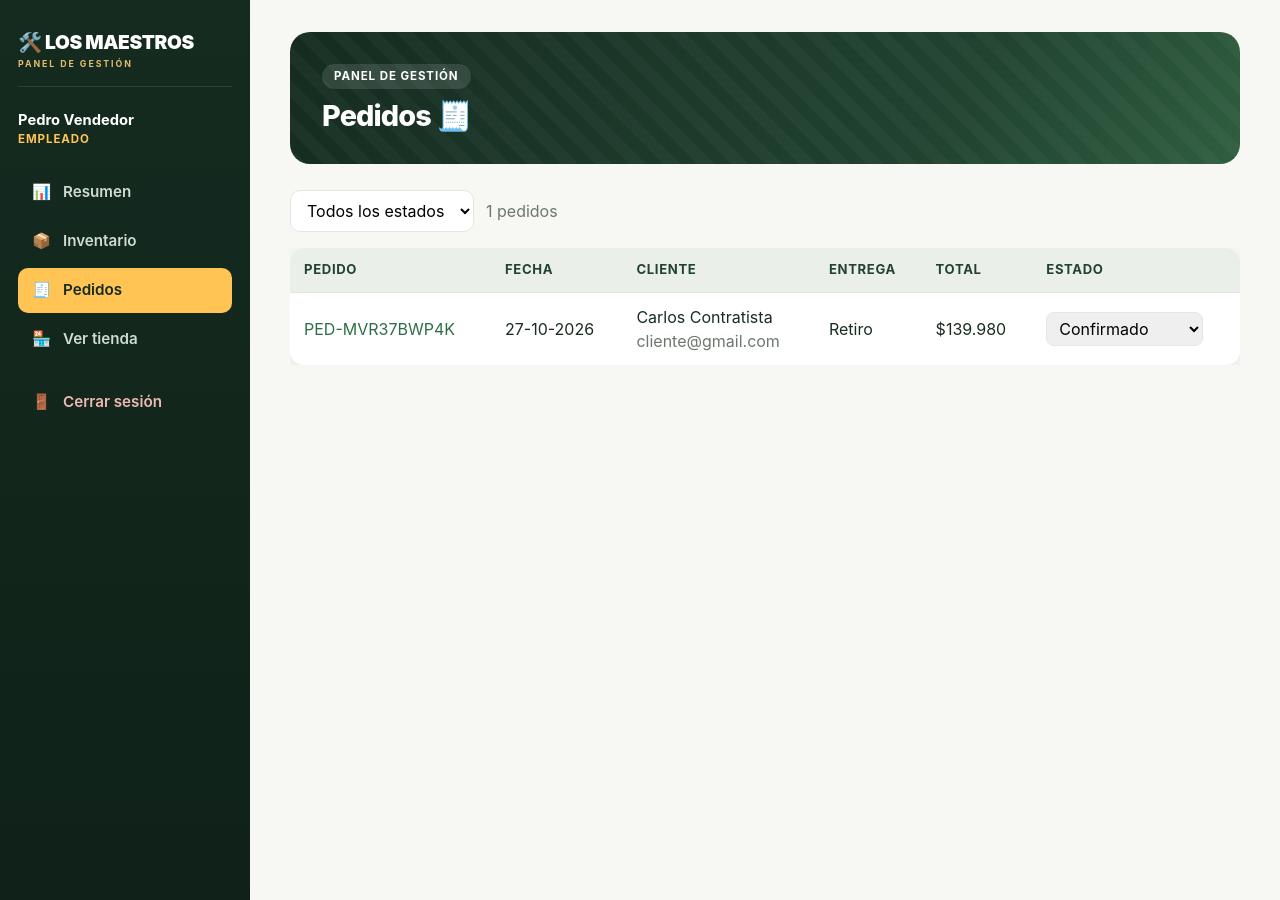
it: Panel: pedidos, usuarios y reportes › P29 cancelar un pedido devuelve el stock y ya no se puede cambiar su estado
This screenshot has width=1280, height=900.
Select "Cancelado" in the 2nd dropdown at (1125, 328), box [1046,312,1203,346]
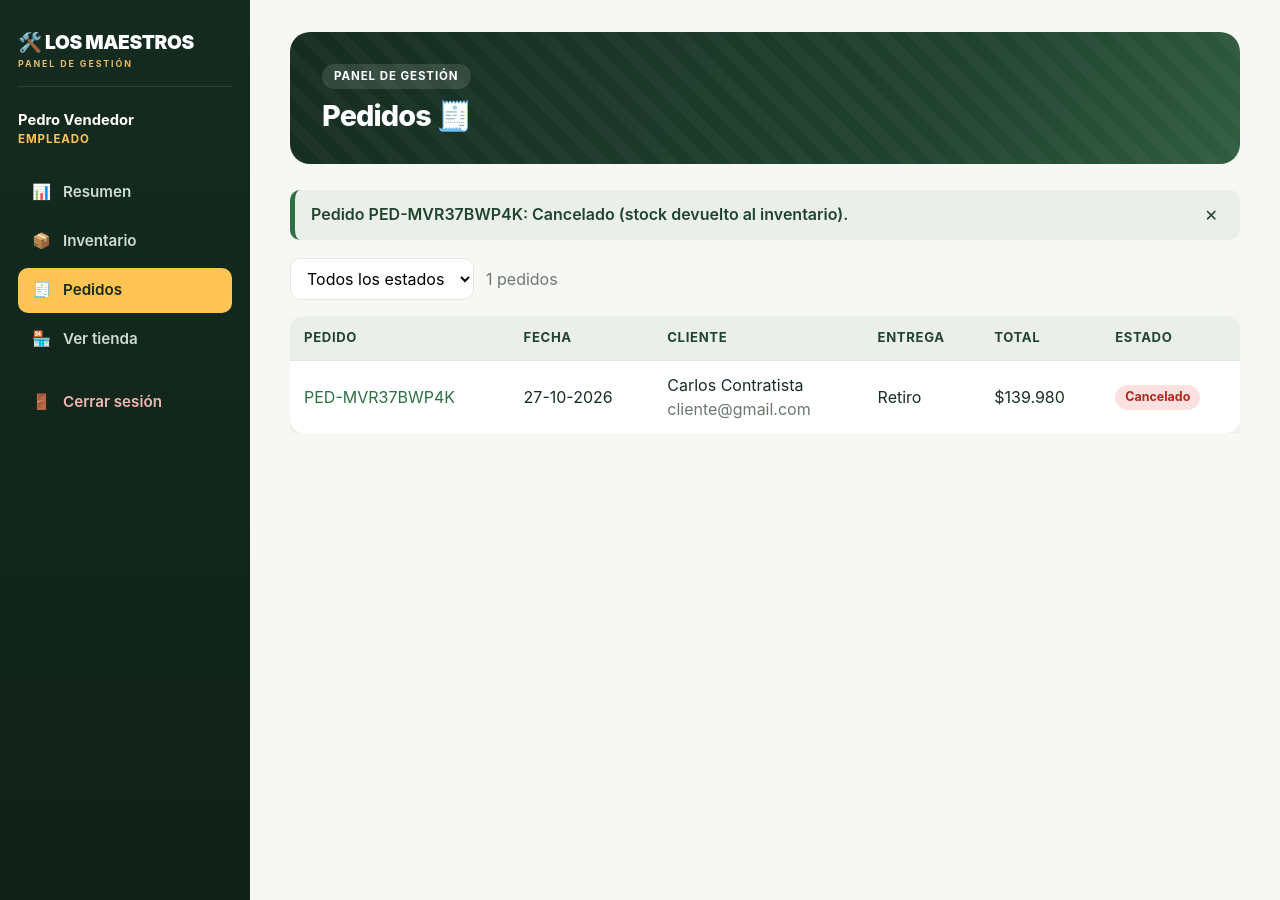
Check: the text "stock devuelto al inventario" is shown, box [311,204,848,224]
